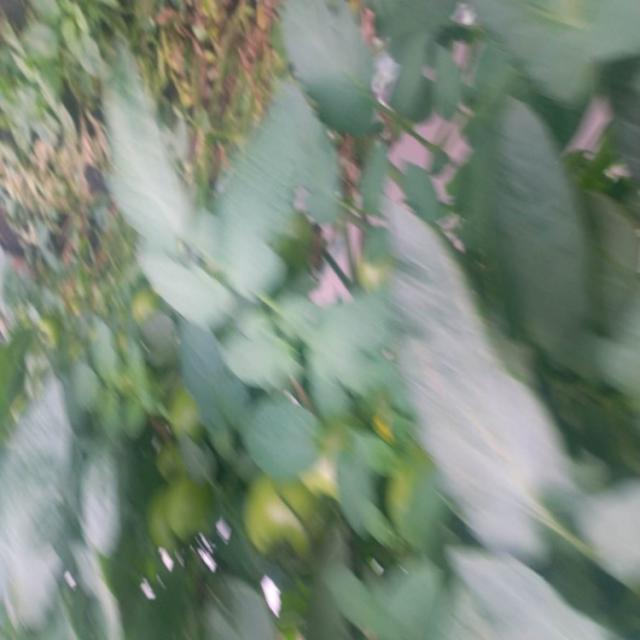tomato: (243, 474, 324, 564), (134, 479, 224, 552), (160, 377, 209, 440)
